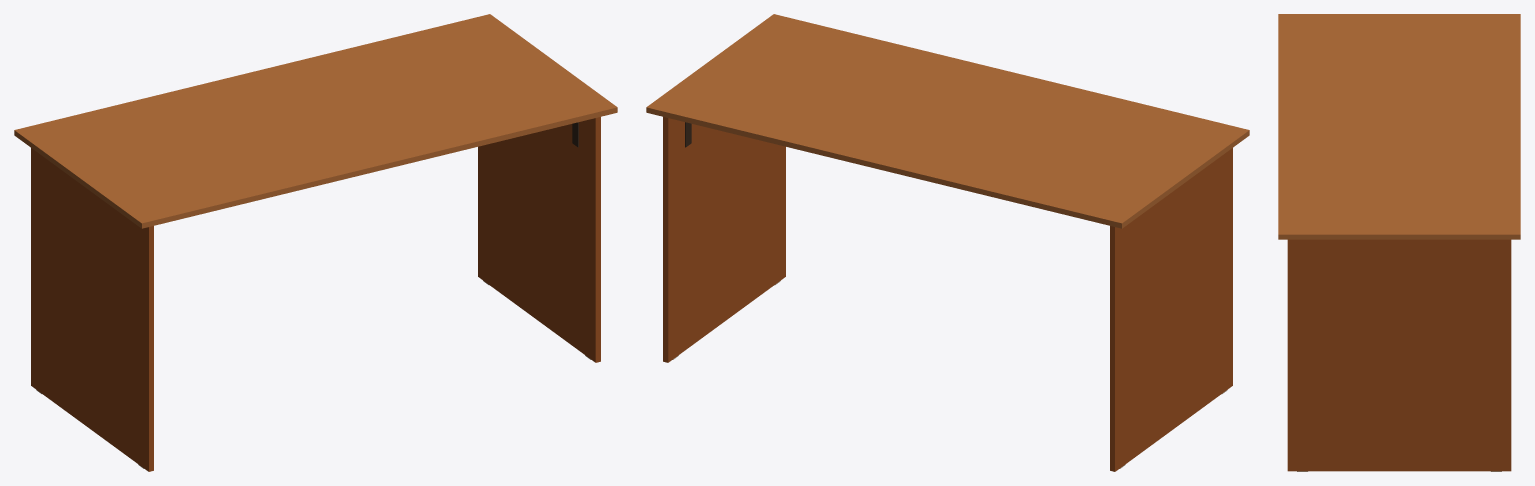
3 views of the same model, side by side, from view 1: azimuth 30°, elevation 25°; view 2: azimuth 150°, elevation 25°; view 3: azimuth 270°, elevation 25° (orthographic). The views are drawn at different scales.
Visible parts, largest first — view 1: top-slab, end-panel, end-panel-mirror; view 2: top-slab, end-panel, end-panel-mirror; view 3: top-slab, end-panel-mirror.
Boxes of the visible parts, <box> form: top-slab: <box>14,14,617,228</box>; end-panel: <box>31,148,153,471</box>; end-panel-mirror: <box>478,117,600,362</box>; top-slab: <box>646,14,1249,228</box>; end-panel: <box>1110,148,1232,471</box>; end-panel-mirror: <box>663,117,785,362</box>; top-slab: <box>1278,14,1520,239</box>; end-panel-mirror: <box>1287,239,1511,471</box>.
Size of the model in its own units: 1.4 by 0.7195 by 0.65.
